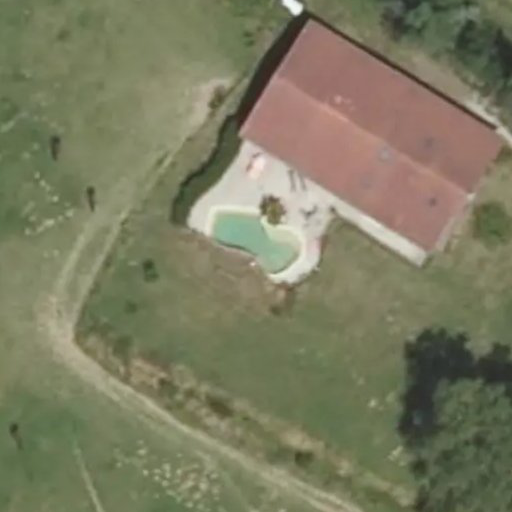pool: (198, 234, 313, 240)
